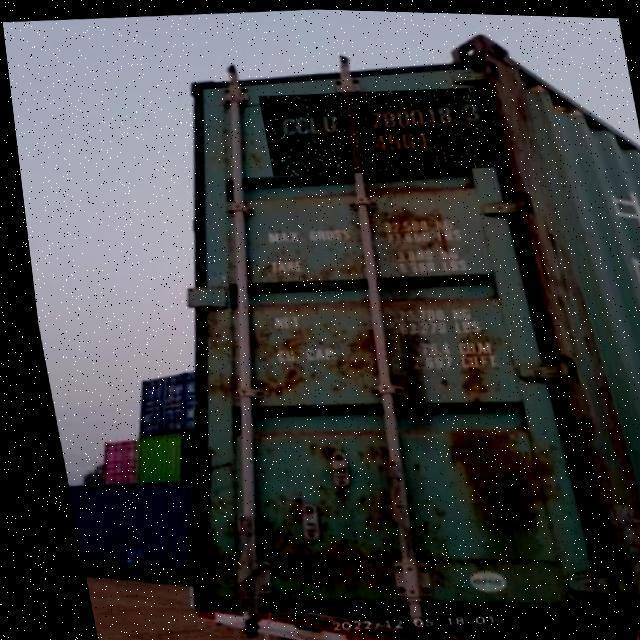container_number_h: (255, 78, 505, 180)
